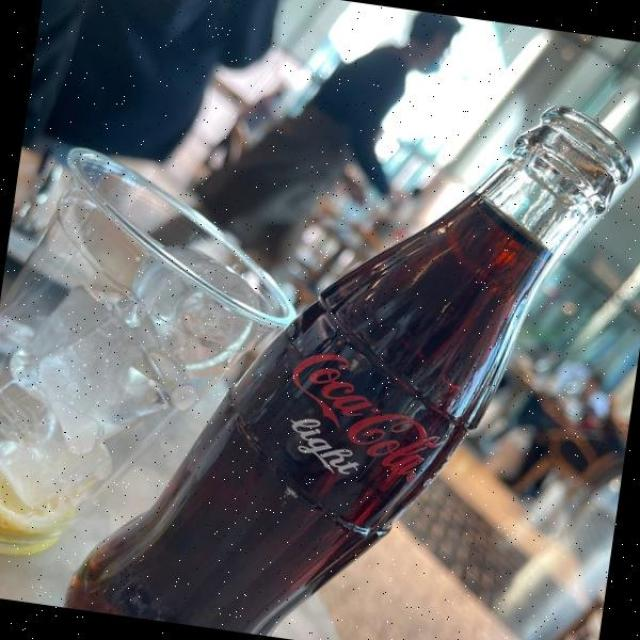coca-cola: (57, 33, 640, 640)
